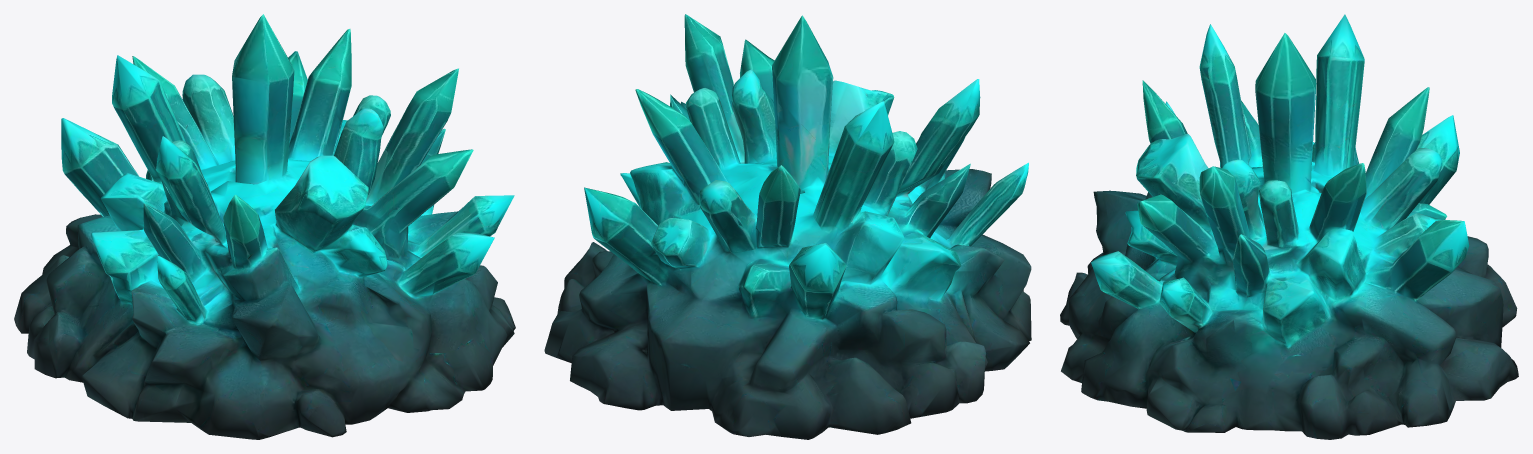
The model's file is prop_crystal.glb.
3 renders of one model, left to right at view 1: azimuth 30°, elevation 25°; view 2: azimuth 150°, elevation 25°; view 3: azimuth 270°, elevation 25°, orthographic. The views are drawn at different scales.
Bounding box in the file's own units: 1.91 × 1.41 × 1.9.
Materials: 1 (1 with a texture image).
